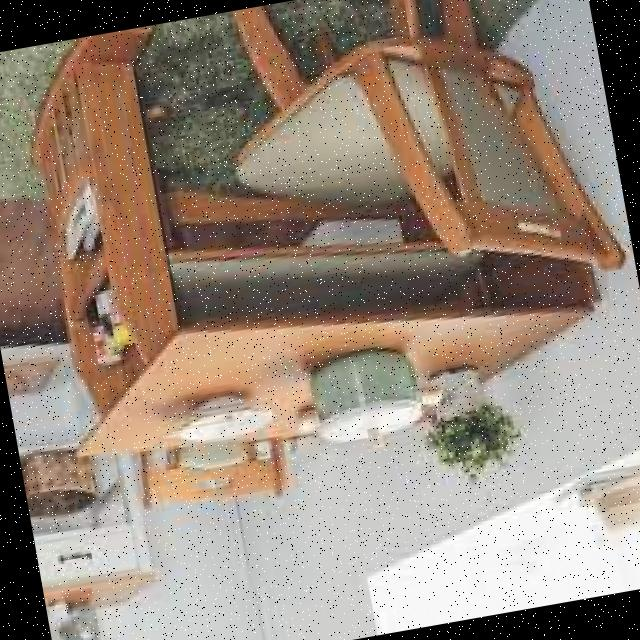Chair: (201, 0, 630, 356)
Table: (35, 161, 620, 499)
